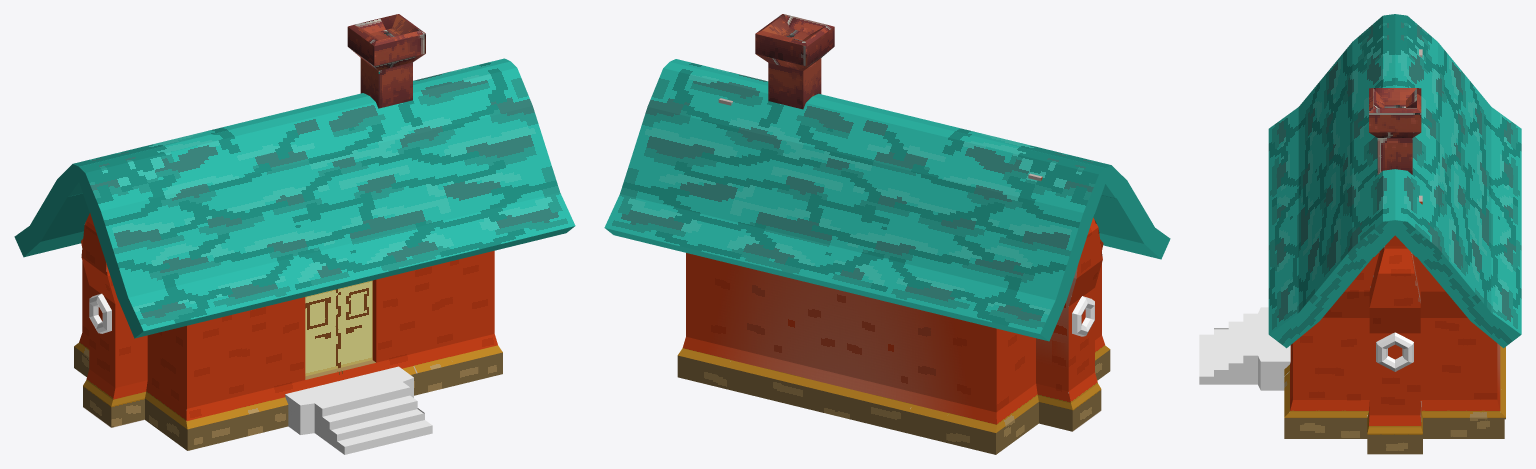
The model's file is dom.gltf.
3 renders of one model, left to right at view 1: azimuth 30°, elevation 25°; view 2: azimuth 150°, elevation 25°; view 3: azimuth 270°, elevation 25°, orthographic. The views are drawn at different scales.
Visible parts, largest first — view 1: cuboid (×6), torus; view 2: cuboid (×4), torus; view 3: cuboid (×5), torus.
Part boxes in pixels (x1,y1,x2,y2): cuboid (×6): (14,14,575,454); torus: (89,293,111,333); cuboid (×4): (604,14,1170,454); torus: (1072,296,1094,336); cuboid (×5): (1199,14,1521,454); torus: (1376,332,1413,371).
Bounding box in the file's own units: 4.39 × 3.11 × 2.9.
5 materials, 4 textured.
